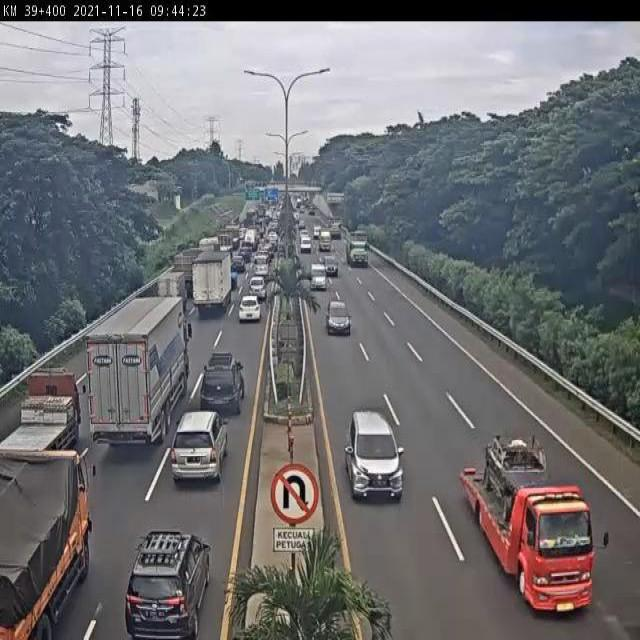car: (126, 528, 211, 640), (343, 407, 407, 504), (172, 412, 228, 488), (200, 353, 246, 418), (325, 298, 352, 334), (240, 295, 262, 324), (310, 263, 328, 292), (323, 255, 340, 280), (250, 276, 267, 301)
small truck: (460, 431, 609, 618), (159, 272, 188, 317)
truck-l-: (82, 297, 192, 447), (345, 232, 371, 271)
truck-m-: (0, 445, 98, 640), (0, 365, 88, 475), (190, 249, 233, 315)
